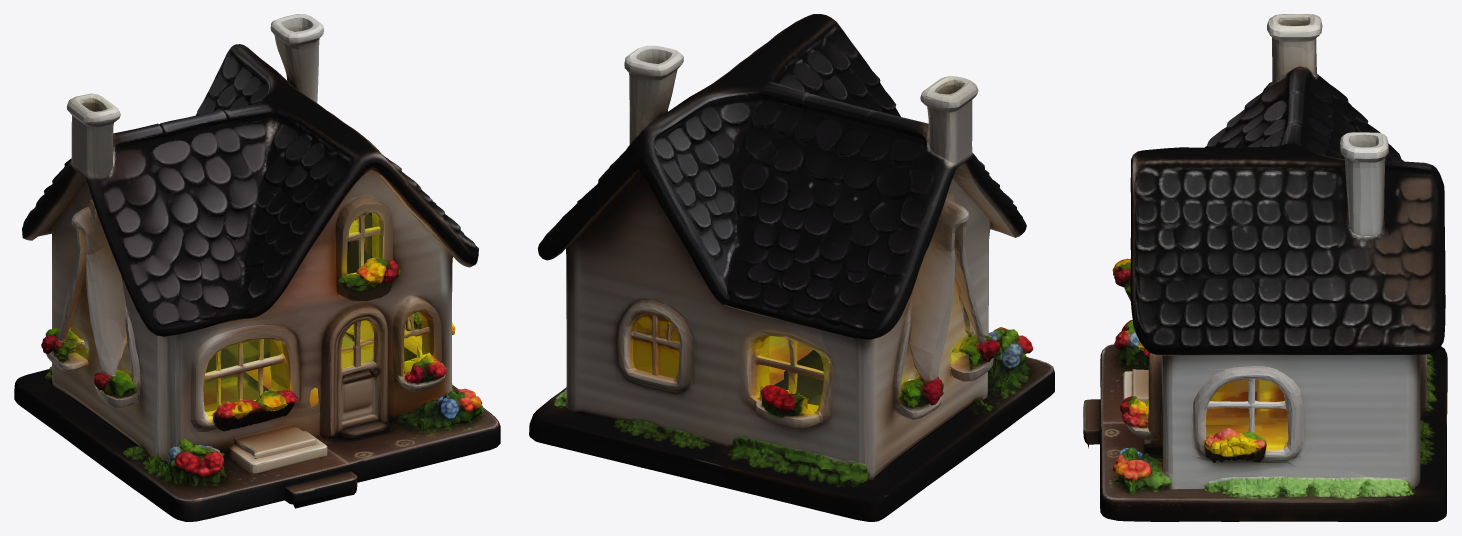
Rendered from porcelain-miniature-house-3d.jpeg.glb.
3 views of the same model, side by side, from view 1: azimuth 30°, elevation 25°; view 2: azimuth 150°, elevation 25°; view 3: azimuth 270°, elevation 25° (orthographic). The views are drawn at different scales.
Parts seen in each view (by area): view 1: world; view 2: world; view 3: world.
Part boxes in pixels (x1,y1,x2,y2): world: (14, 14, 500, 521); world: (529, 14, 1054, 521); world: (1083, 14, 1447, 521).
Size of the model in its own units: 0.9967 by 0.9816 by 0.9184.
1 material, 1 textured.
